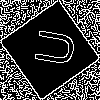U: (25, 25, 76, 69)
